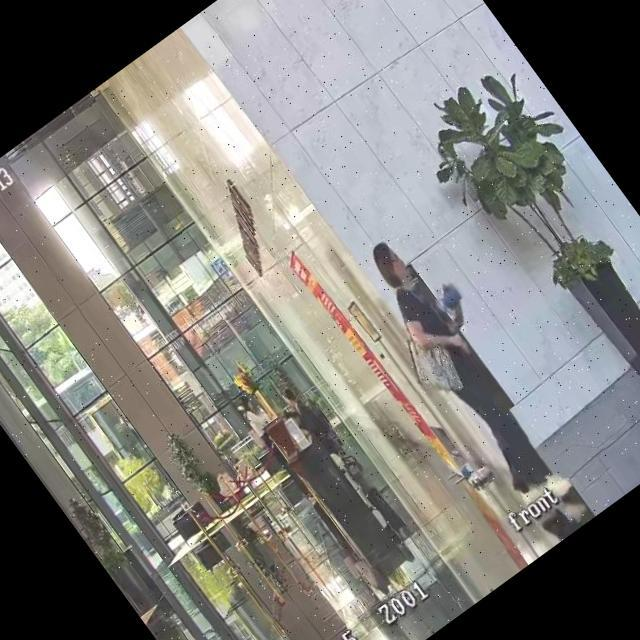person: (348, 227, 570, 500), (234, 392, 324, 505), (275, 376, 349, 464)
